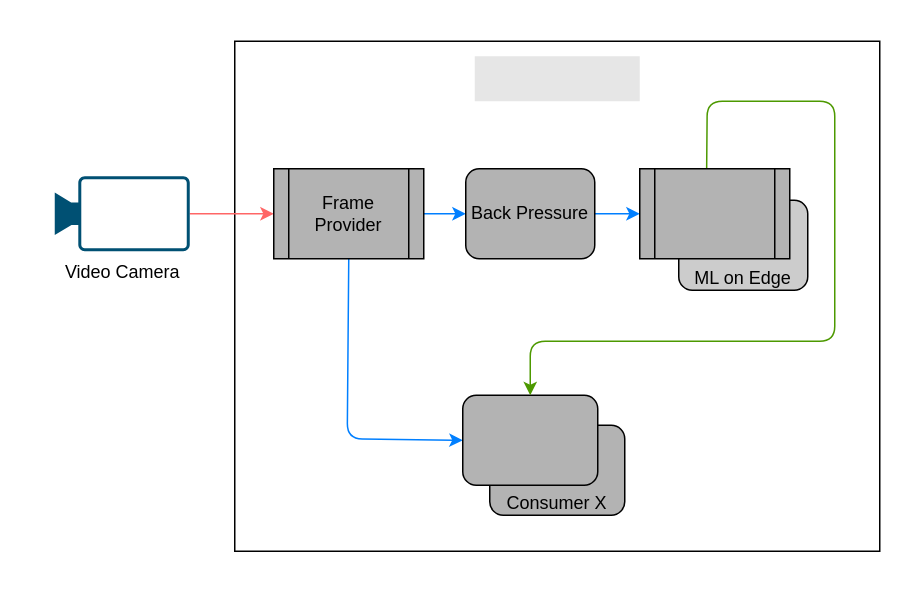
The diagram is 914 pixels wide and 591 high, and some of its shapes have lost their labels. Each missing label, with the box of its shape:
Frame Processor: (638, 167, 790, 259)
IoT Edge Device: (474, 56, 639, 100)
User Interface: (461, 394, 598, 485)
